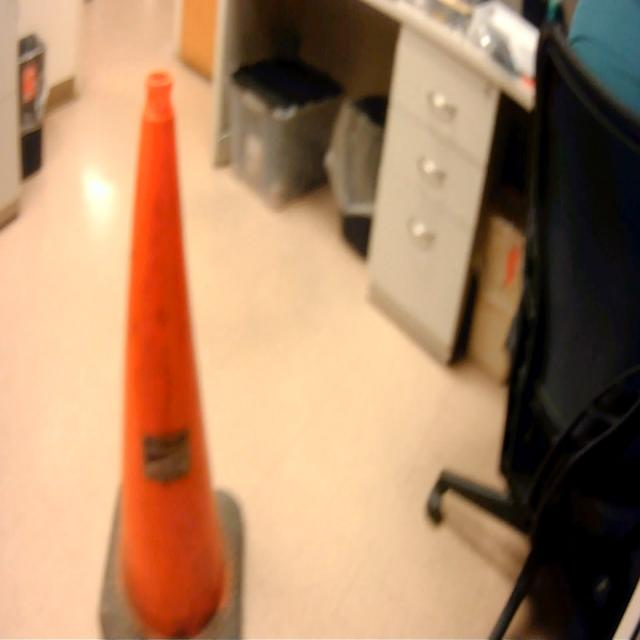traffic cone: (95, 63, 250, 640)
